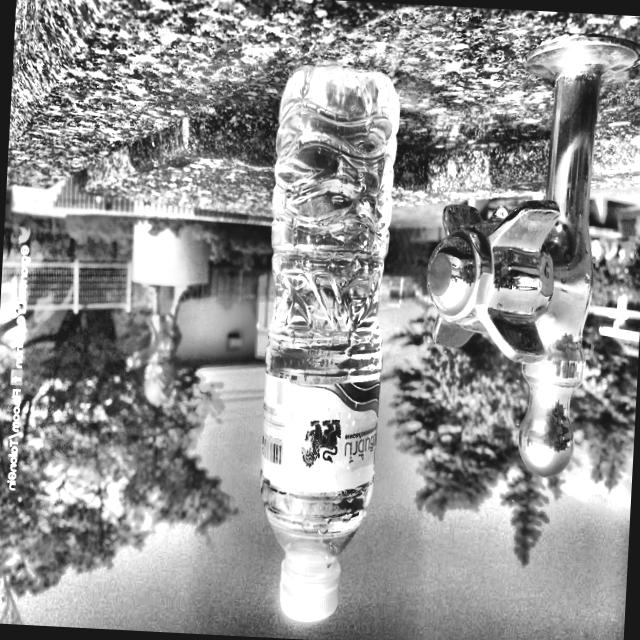waterbottle: (252, 62, 402, 626)
